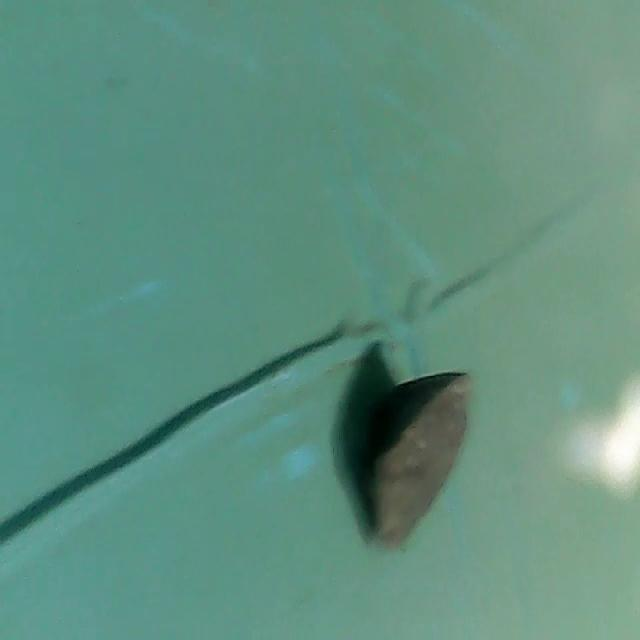rock: (355, 361, 474, 557)
